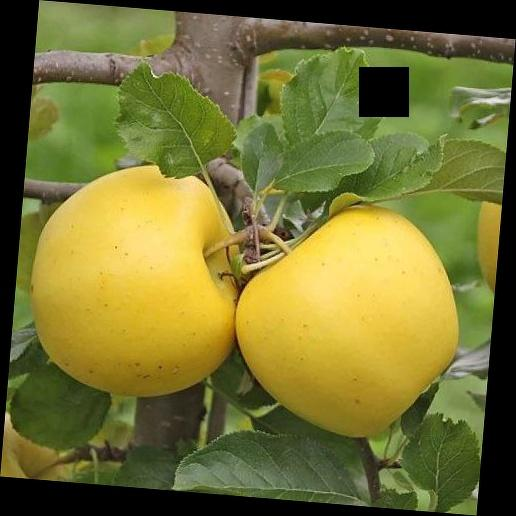green apple: (28, 164, 242, 411), (241, 198, 462, 435)
